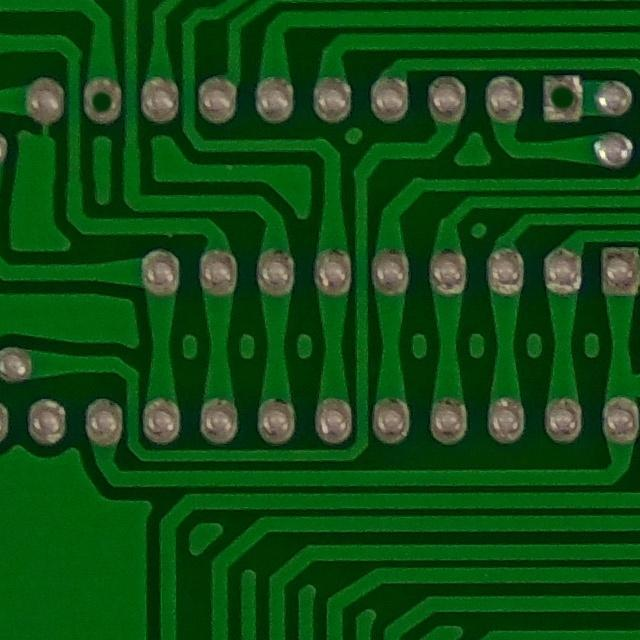missing_hole: (523, 69, 593, 137), (74, 74, 131, 132)
